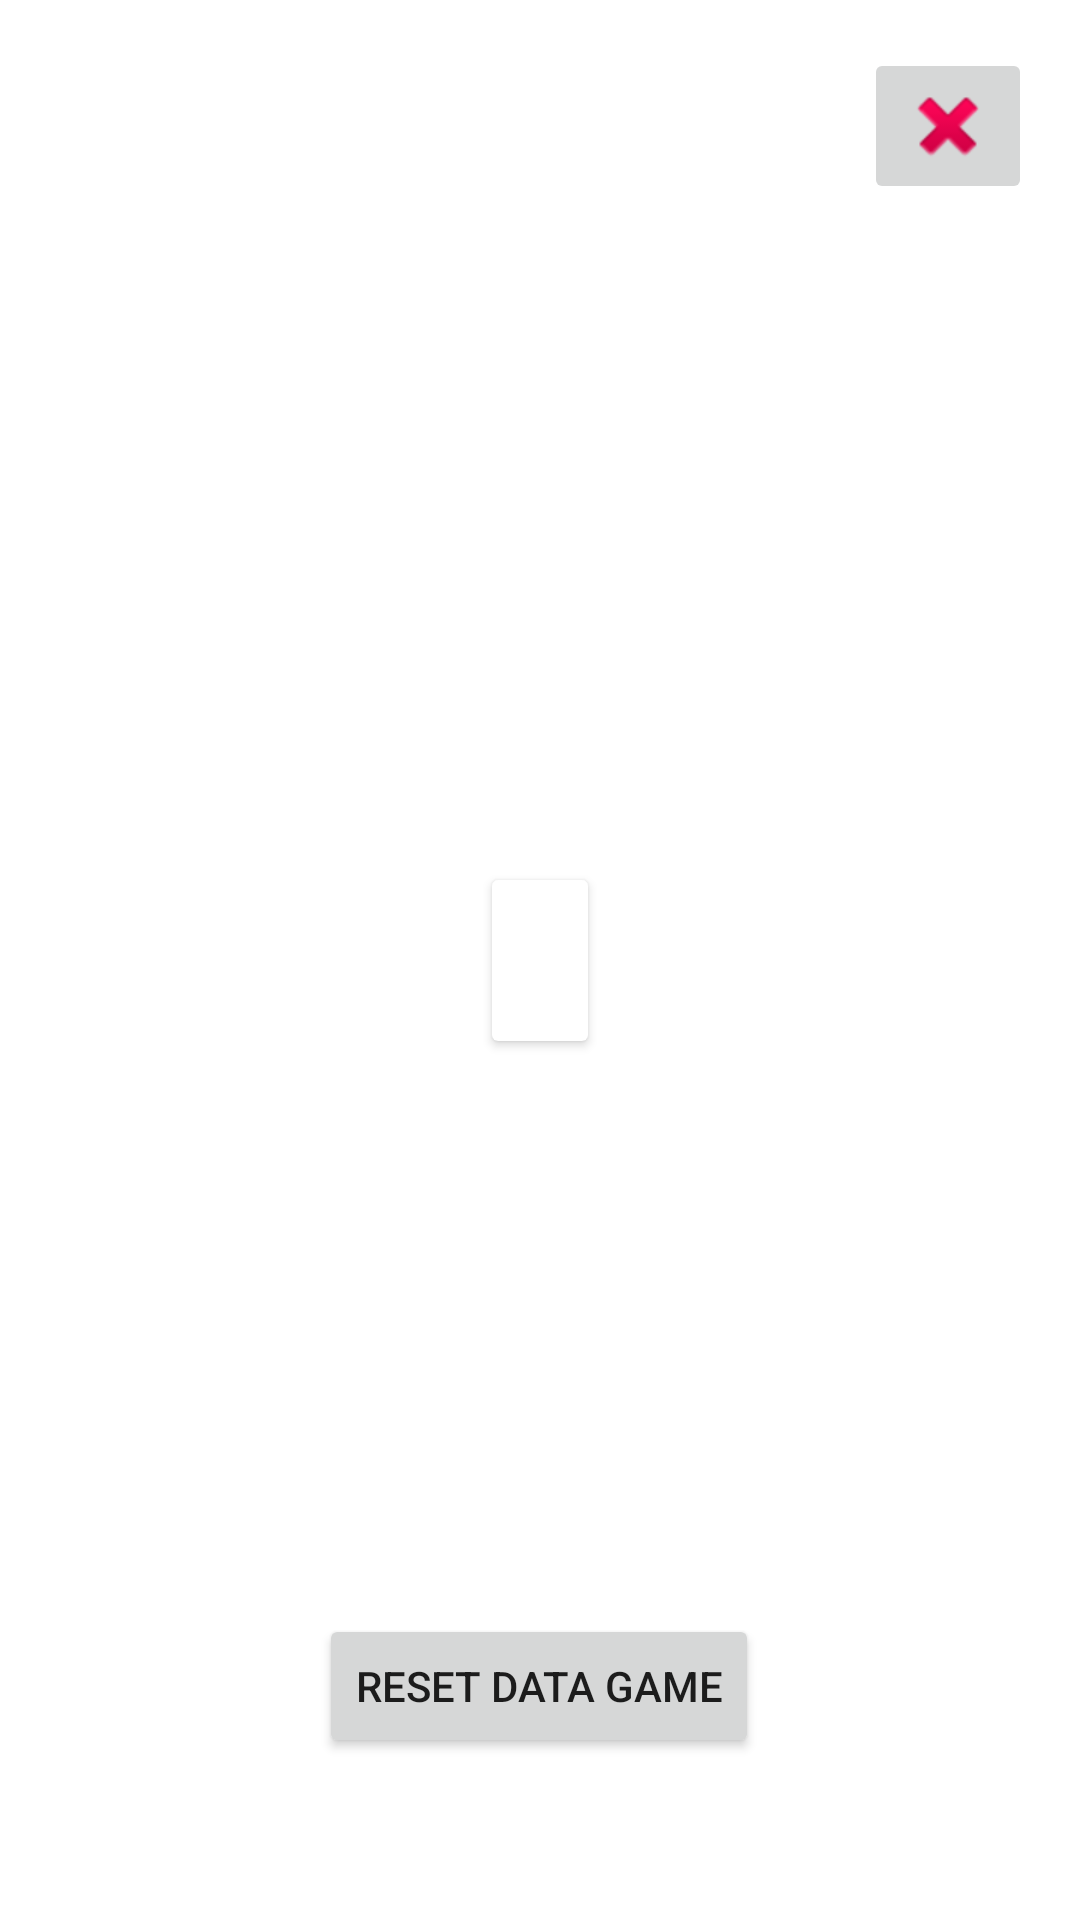

Screen size 1080px x 1920px. Icon name, then its center in pixels as (x,y):
delete: (948,126)
